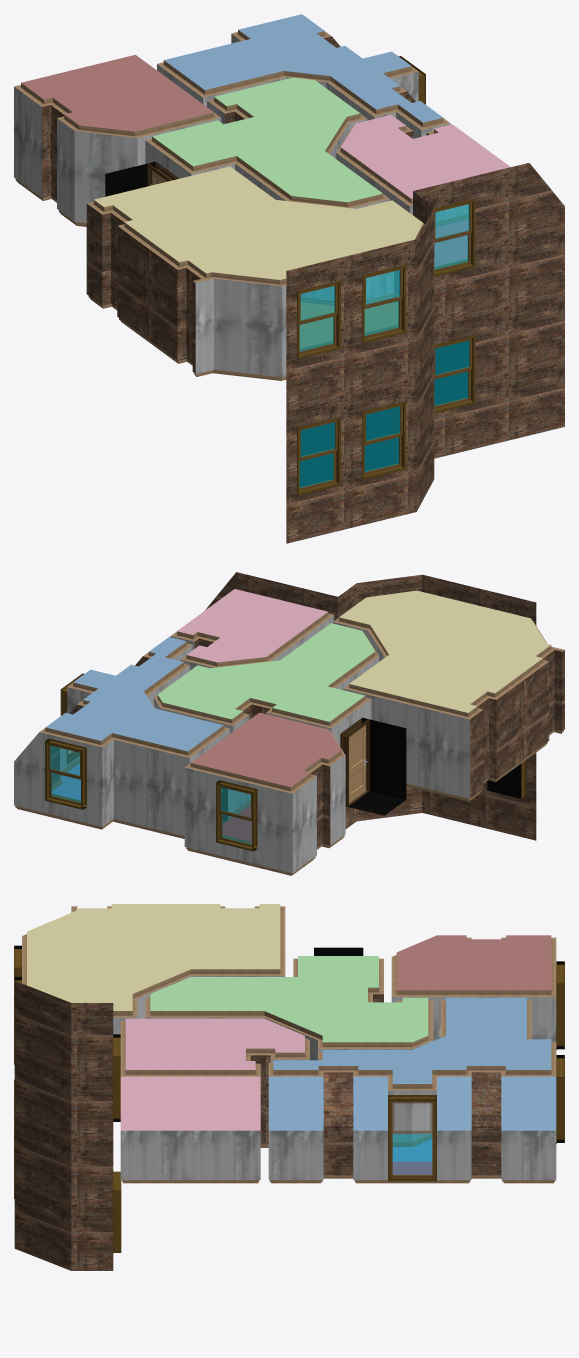
Rendered from level_07.fbx.
The picture shows the model from 3 angles, top to bottom: view 1: azimuth 30°, elevation 25°; view 2: azimuth 150°, elevation 25°; view 3: azimuth 270°, elevation 25°; orthographic projection. The views are drawn at different scales.
Parts seen in each view (by area): view 1: outer_wall.003, outer_wall, inner_wall.073, inner_wall.074, inner_wall.077, inner_wall.076, inner_wall.075, inner_wall.001, inner_wall.008, outer_wall.001, inner_wall.057, inner_wall.059 (+36 smaller); view 2: inner_wall.073, inner_wall.074, inner_wall.077, inner_wall.060, inner_wall.007, inner_wall.051, inner_wall.076, inner_wall.075, outer_wall, inner_wall.008, inner_wall.049, inner_wall.066 (+32 smaller); view 3: inner_wall.073, inner_wall.036, outer_wall.001, inner_wall.074, outer_wall.002, inner_wall.077, inner_wall.076, inner_wall.042, inner_wall.075, inner_wall.047, inner_wall.041, inner_wall.046 (+16 smaller).
Part boxes in pixels (x1,y1,x2,y2): outer_wall.003: [413, 163, 564, 458]; outer_wall: [286, 239, 416, 543]; inner_wall.073: [94, 166, 422, 279]; inner_wall.074: [152, 77, 382, 202]; inner_wall.077: [164, 14, 442, 122]; inner_wall.076: [21, 55, 213, 131]; inner_wall.075: [341, 115, 510, 198]; inner_wall.001: [211, 272, 282, 380]; inner_wall.008: [117, 222, 179, 363]; outer_wall.001: [416, 207, 434, 511]; inner_wall.057: [74, 125, 137, 226]; inner_wall.059: [14, 83, 43, 200]; inner_wall.073: [339, 590, 550, 712]; inner_wall.074: [158, 623, 375, 721]; inner_wall.077: [45, 637, 223, 751]; inner_wall.060: [184, 763, 292, 875]; inner_wall.007: [343, 684, 469, 801]; inner_wall.051: [112, 733, 189, 838]; inner_wall.076: [191, 712, 341, 787]; inner_wall.075: [177, 589, 327, 662]; outer_wall: [422, 574, 536, 840]; inner_wall.008: [495, 658, 549, 781]; inner_wall.049: [14, 727, 102, 829]; inner_wall.066: [345, 717, 406, 815]; inner_wall.073: [27, 904, 280, 1010]; inner_wall.036: [120, 1070, 260, 1183]; outer_wall.001: [14, 981, 71, 1270]; inner_wall.074: [150, 956, 428, 1042]; outer_wall.002: [71, 1003, 113, 1270]; inner_wall.077: [273, 997, 551, 1083]; inner_wall.076: [396, 935, 551, 990]; inner_wall.042: [353, 1070, 471, 1183]; inner_wall.075: [125, 1018, 304, 1069]; inner_wall.047: [501, 1070, 556, 1183]; inner_wall.041: [268, 1070, 323, 1183]; inner_wall.046: [318, 1066, 358, 1178].
Size of the model in its own units: 9.01 by 11.18 by 6.
